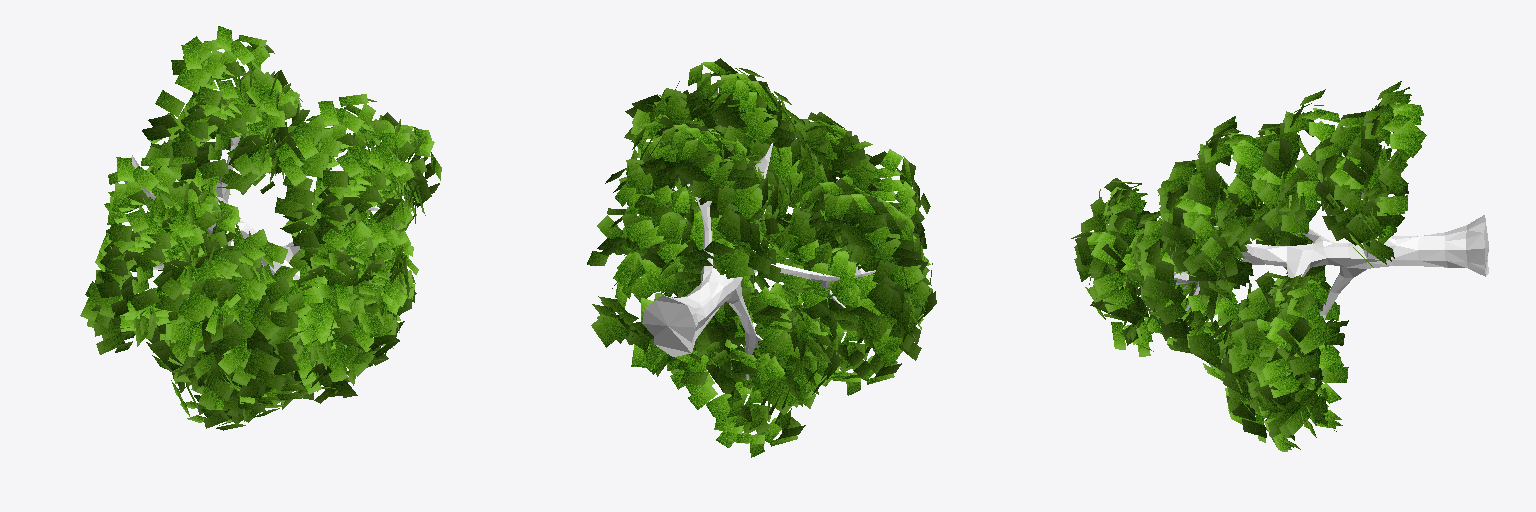
3 renders of one model, left to right at view 1: azimuth 30°, elevation 25°; view 2: azimuth 150°, elevation 25°; view 3: azimuth 270°, elevation 25°, orthographic.
Parts seen in each view (by area): view 1: Object.1; view 2: Object.1; view 3: Object.1.
Part boxes in pixels (bbox=[...]): Object.1: bbox=[80, 26, 441, 430]; Object.1: bbox=[587, 58, 936, 457]; Object.1: bbox=[1071, 81, 1488, 451].
Size of the model in its own units: 15.65 by 16.18 by 17.19.
2 materials, 1 textured.